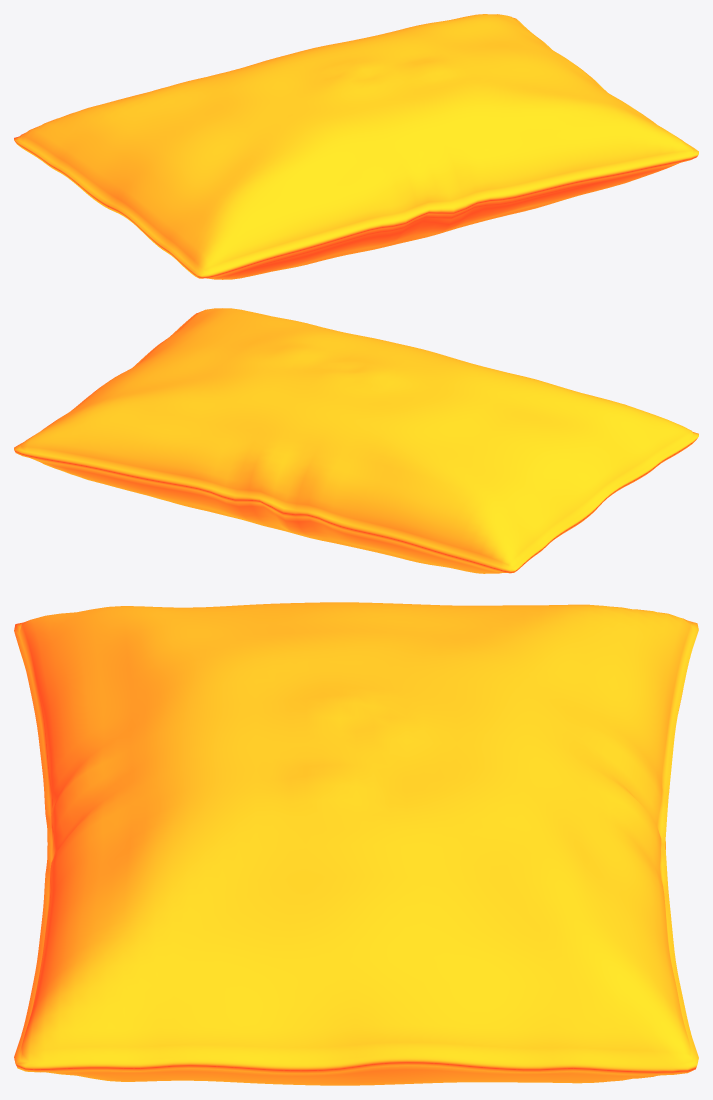
Rendered from 黄まくら.fbx.
The picture shows the model from 3 angles, top to bottom: view 1: azimuth 30°, elevation 25°; view 2: azimuth 150°, elevation 25°; view 3: azimuth 270°, elevation 25°; orthographic projection. The views are drawn at different scales.
Parts seen in each view (by area): view 1: 平面; view 2: 平面; view 3: 平面.
Part boxes in pixels (x1,y1,x2,y2): 平面: (14, 14, 698, 279); 平面: (14, 308, 698, 573); 平面: (14, 602, 698, 1085).
Size of the model in its own units: 256 by 65.74 by 166.
